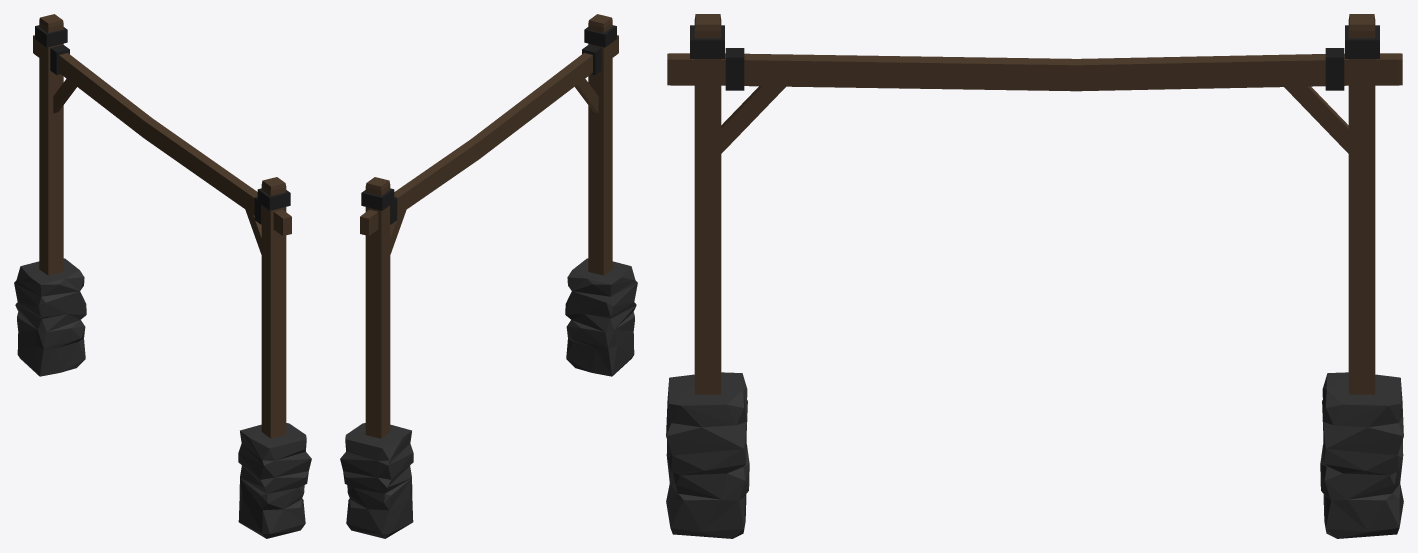
Rendered from WoodenEntrance.fbx.
3 views of the same model, side by side, from view 1: azimuth 30°, elevation 25°; view 2: azimuth 150°, elevation 25°; view 3: azimuth 270°, elevation 25° (orthographic). The views are drawn at different scales.
Parts seen in each view (by area): view 1: polySurface1; view 2: polySurface1; view 3: polySurface1.
Boxes of the visible parts, x1,y1,x2,y2 form: polySurface1: [14, 14, 311, 538]; polySurface1: [340, 14, 637, 538]; polySurface1: [666, 14, 1403, 538].
Bounding box in the file's own units: 0.6052 × 4.11 × 5.45.
